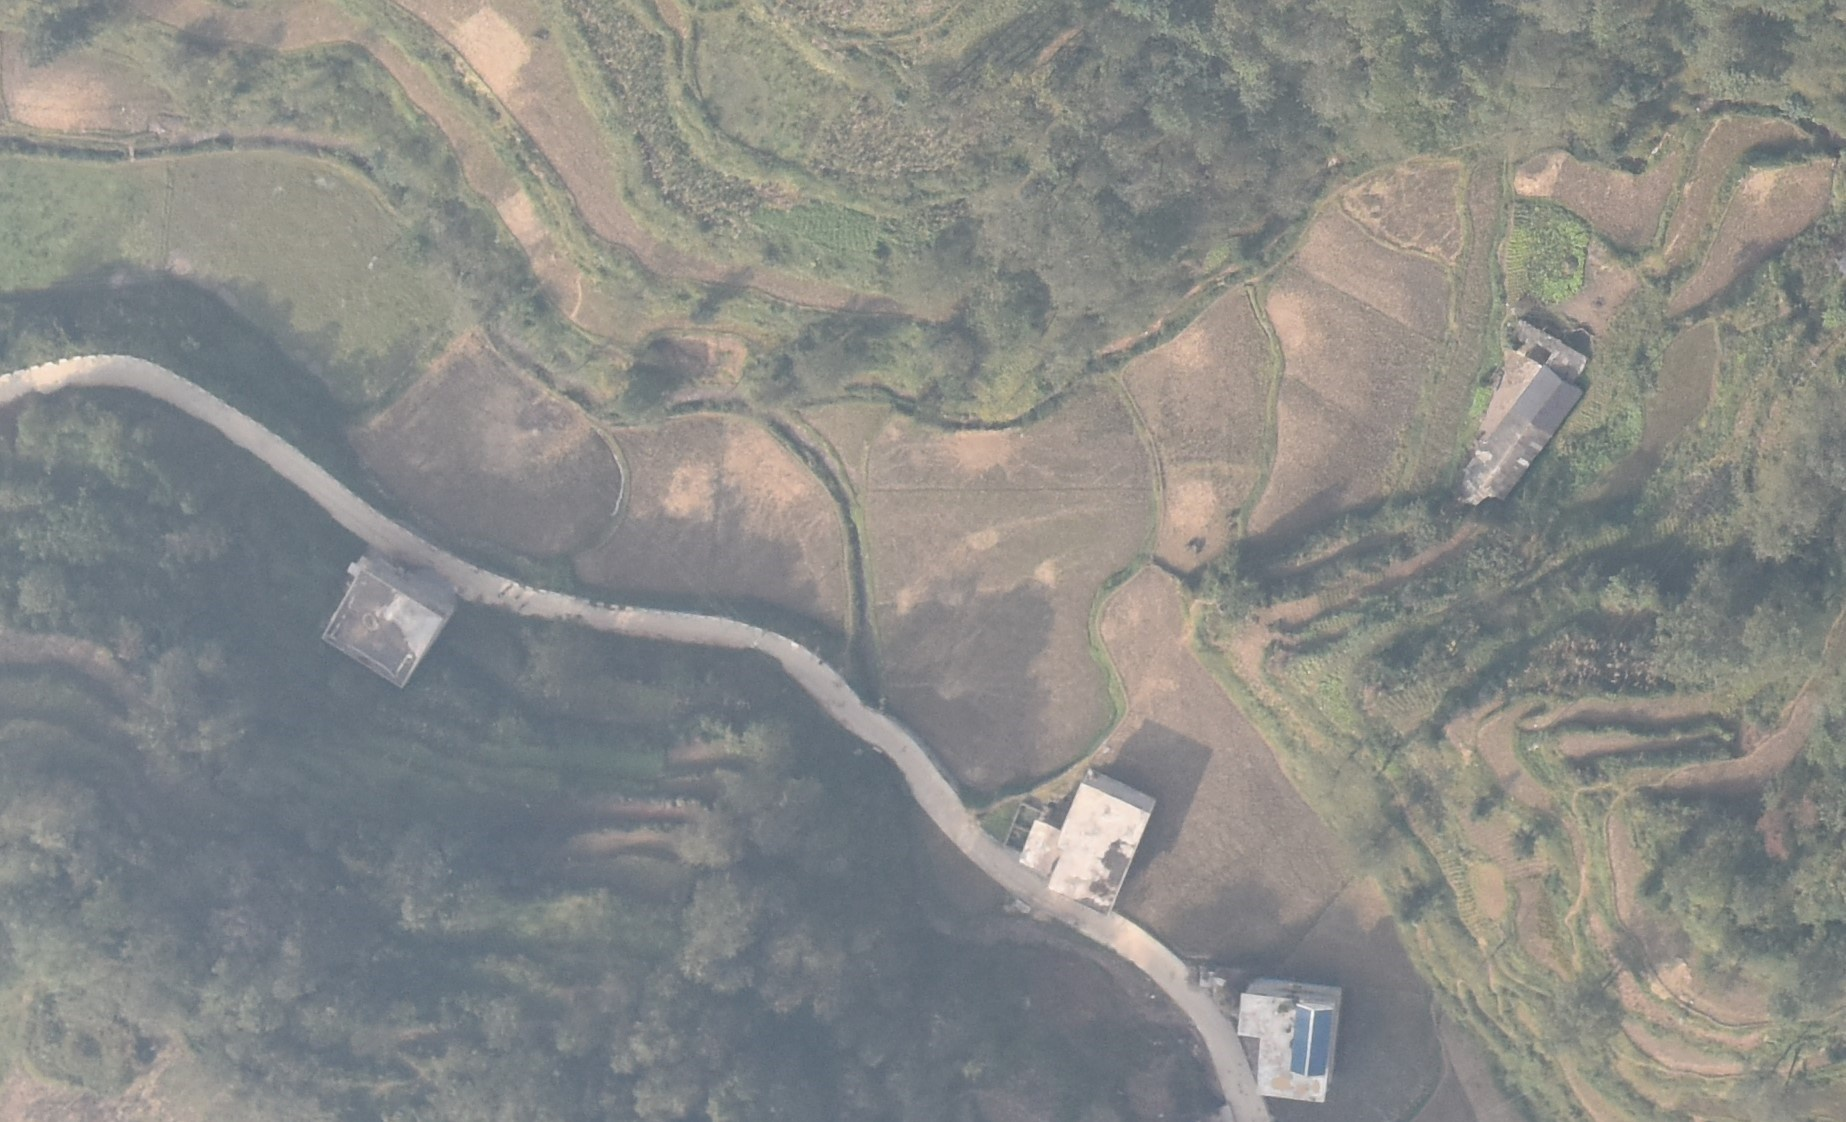building: (1022, 771, 1160, 912), (317, 556, 453, 690), (1459, 365, 1583, 501)
prefabricated-house: (1239, 979, 1342, 1105)
